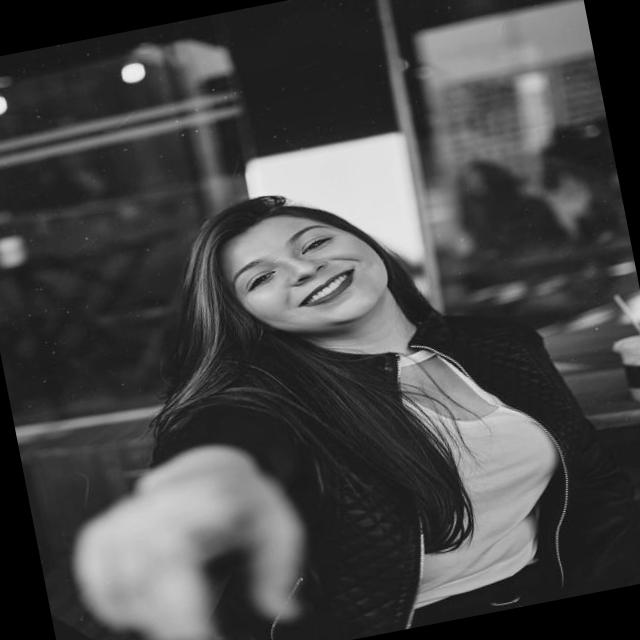Happiness: (212, 192, 400, 352)
